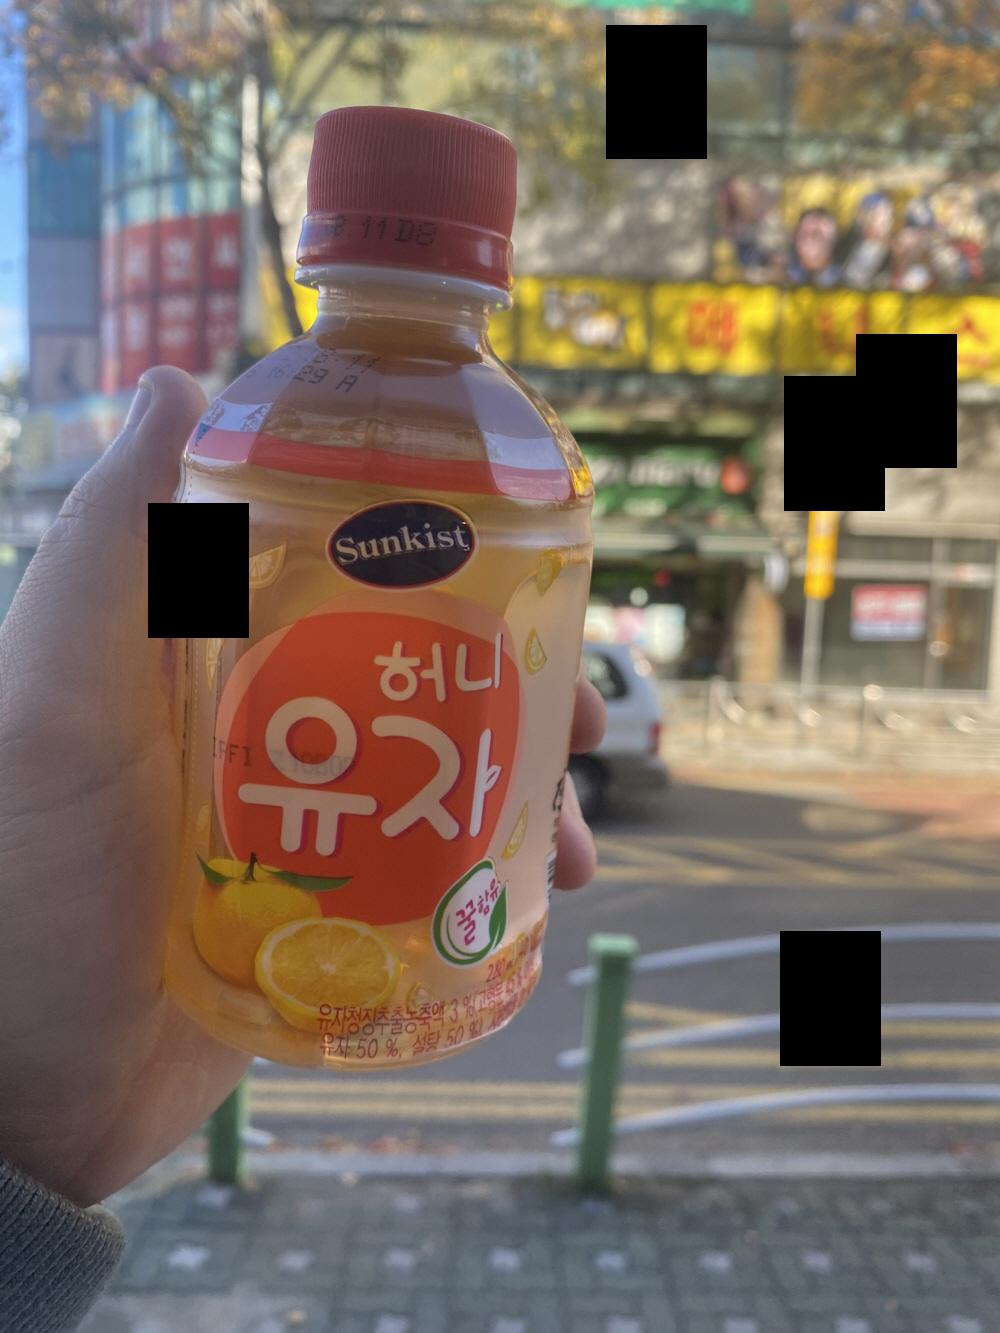honeyyuja: (173, 95, 603, 1085)
